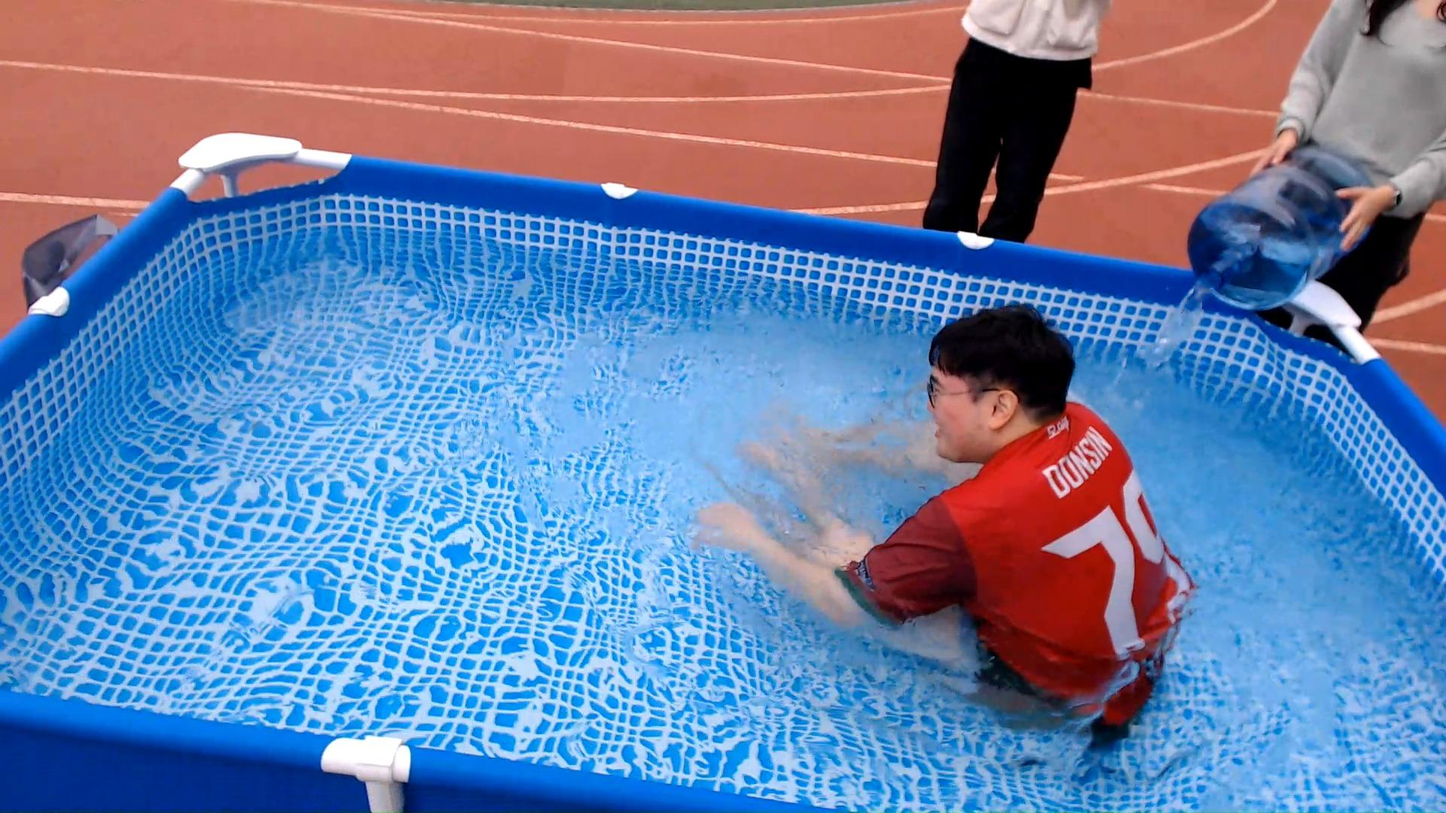Swimming: (656, 274, 1231, 746)
